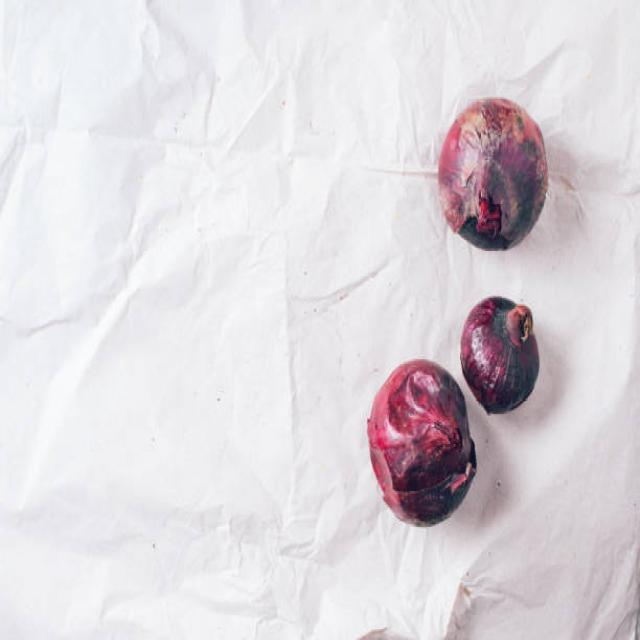mechanical_damage: (338, 56, 564, 543)
